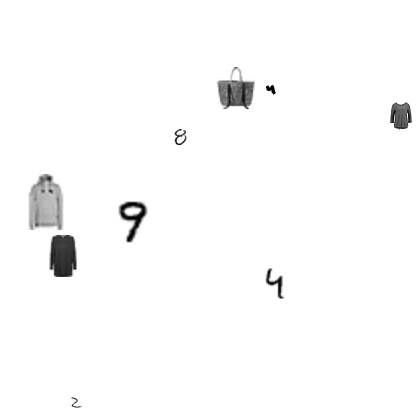2: (68, 396, 82, 410)
4: (254, 261, 296, 303), (264, 82, 278, 96)
8: (169, 126, 191, 148)
9: (105, 188, 161, 244)
Bag: (214, 67, 256, 109)
Pullover: (17, 174, 73, 230), (387, 102, 415, 130)
Shirt: (42, 235, 84, 277)
